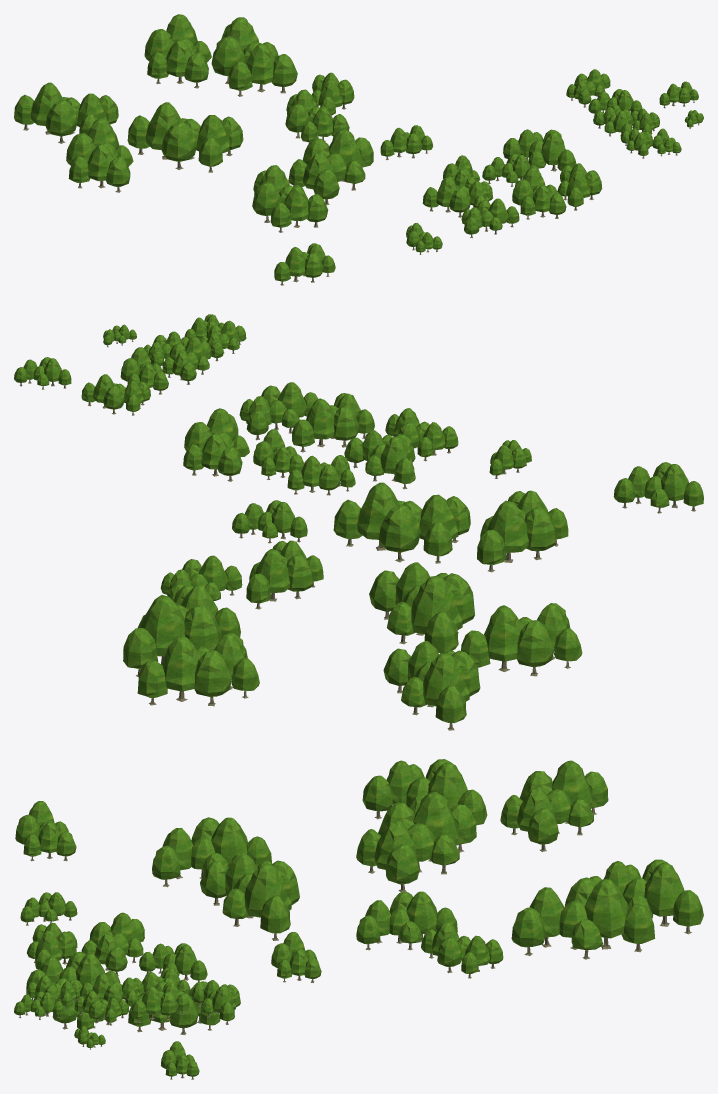
Rendered from MERGED_SM_ENV_KNVLLG_Tree_Distance_A7.mo.fbx.
3 renders of one model, top to bottom at view 1: azimuth 30°, elevation 25°; view 2: azimuth 150°, elevation 25°; view 3: azimuth 270°, elevation 25°, orthographic. The views are drawn at different scales.
Visible parts, largest first — view 1: MERGED_SM_ENV_KNVLLG_Tree_Distance_A7.mo; view 2: MERGED_SM_ENV_KNVLLG_Tree_Distance_A7.mo; view 3: MERGED_SM_ENV_KNVLLG_Tree_Distance_A7.mo.
Part boxes in pixels (<box>): MERGED_SM_ENV_KNVLLG_Tree_Distance_A7.mo: <box>14,14,703,285</box>; MERGED_SM_ENV_KNVLLG_Tree_Distance_A7.mo: <box>14,314,703,730</box>; MERGED_SM_ENV_KNVLLG_Tree_Distance_A7.mo: <box>14,759,703,1079</box>.
Size of the model in its own units: 448 by 53.87 by 406.
